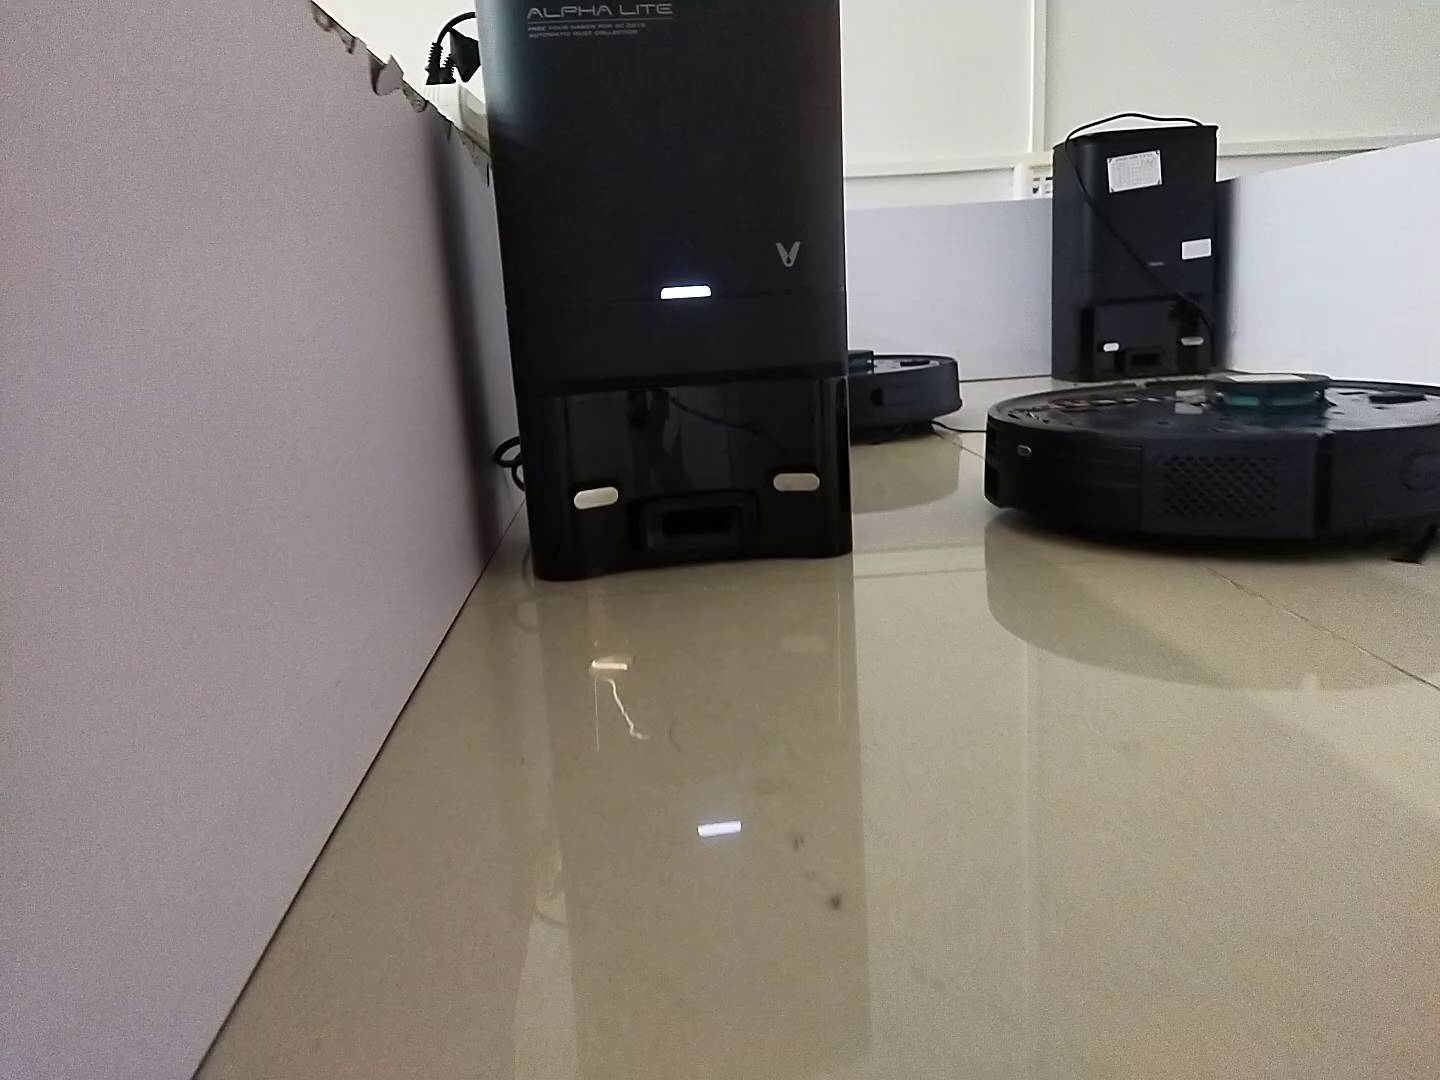dust collecting barrel: (473, 1, 852, 584), (1052, 126, 1221, 380)
